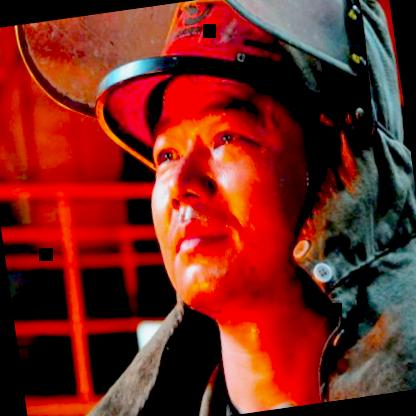helmet: (83, 0, 416, 352)
